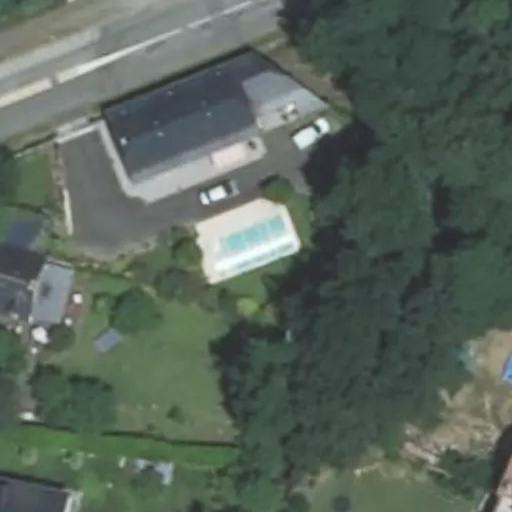pool: (210, 240, 296, 246)
